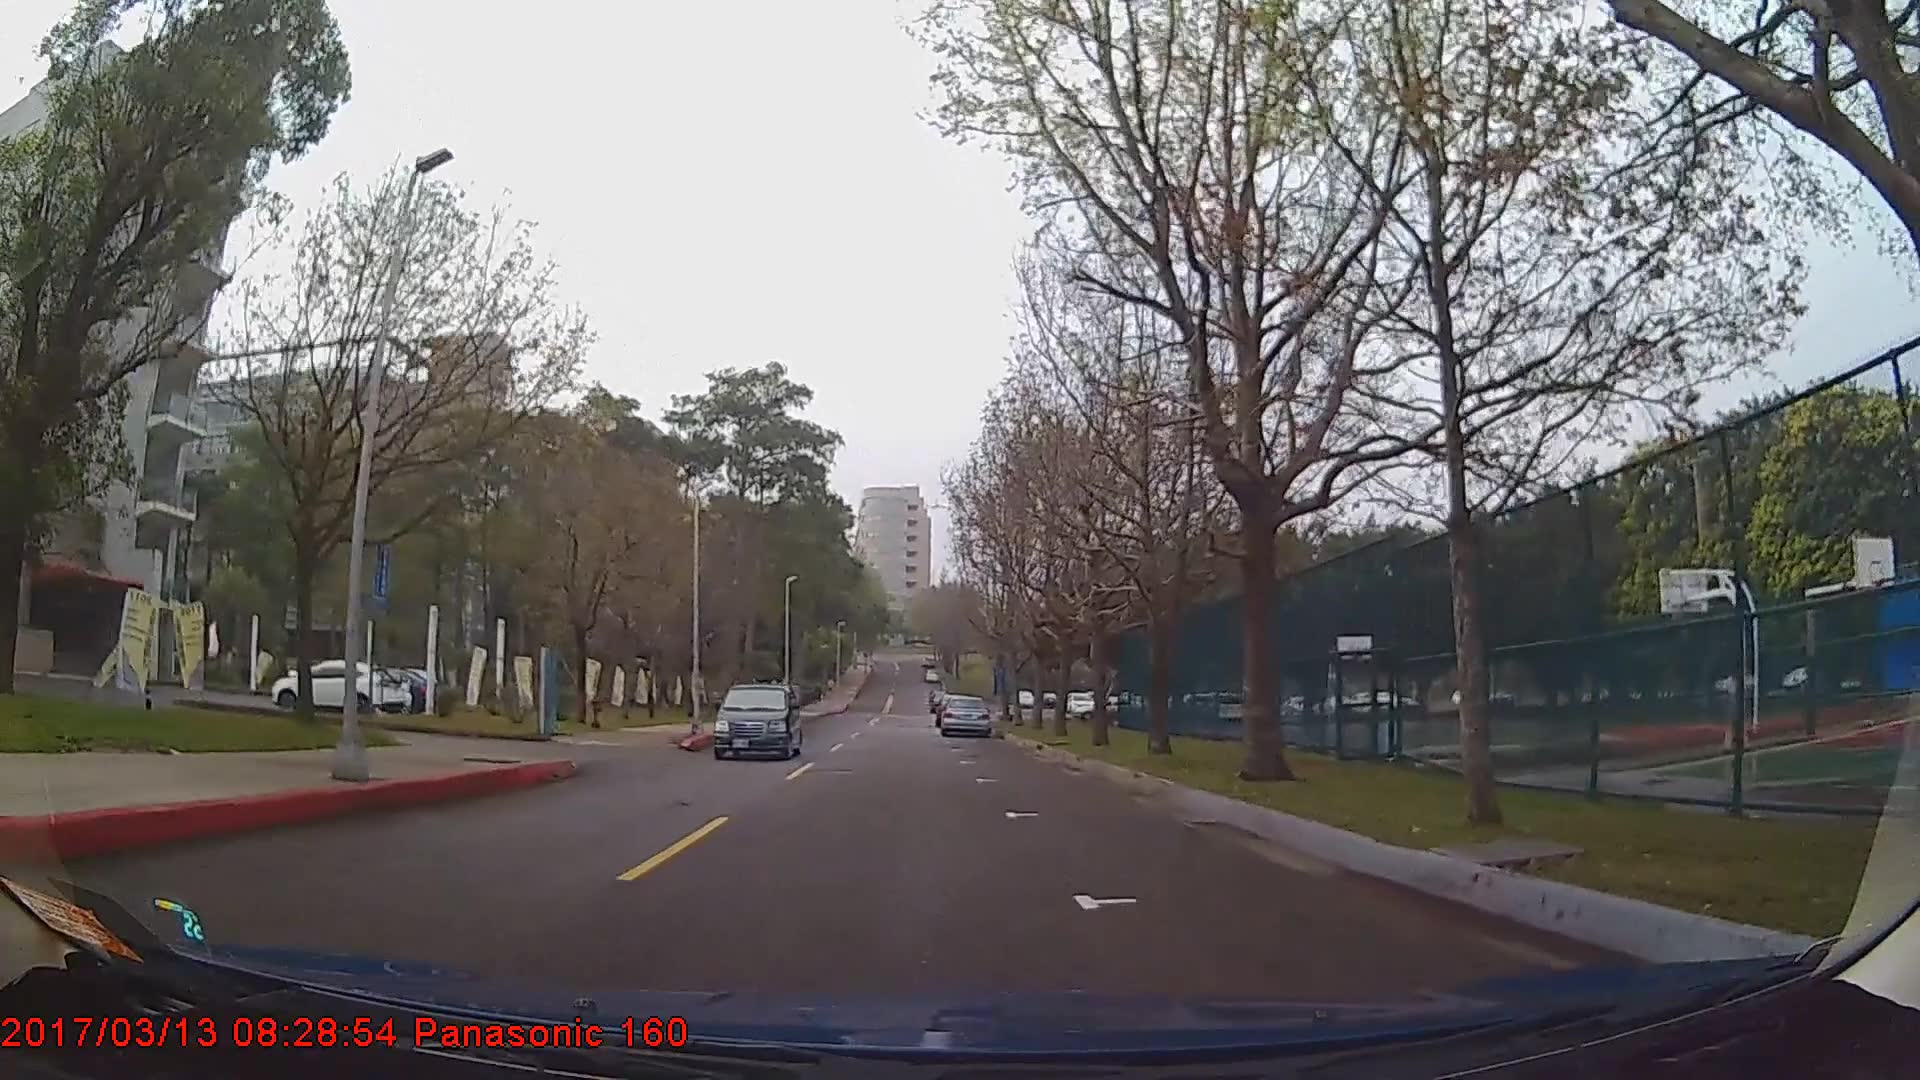vehicle: (272, 657, 404, 716), (711, 682, 804, 762), (938, 695, 990, 738)
